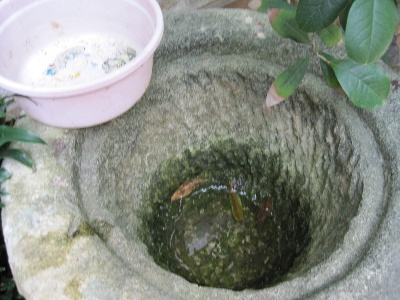bowl: (1, 1, 164, 134)
